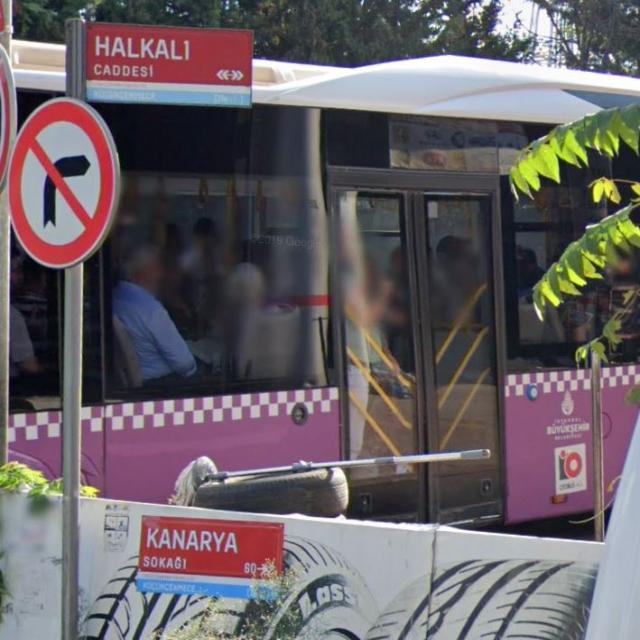sagadonulmez: (10, 98, 115, 269)
